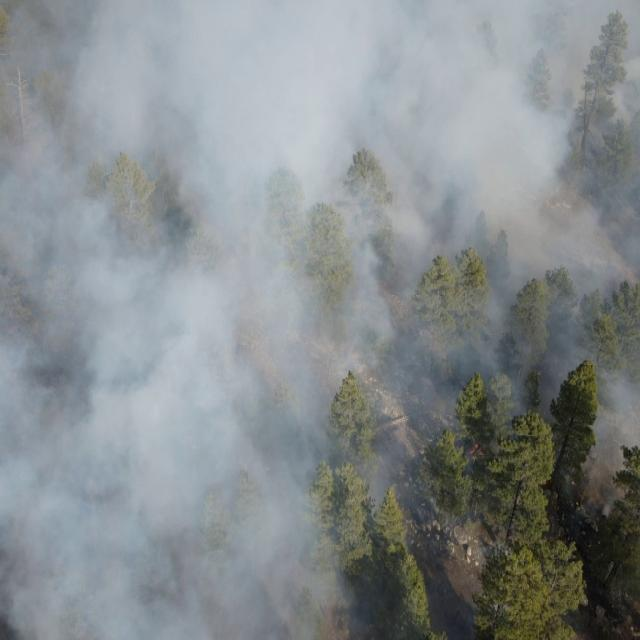fire: (462, 436, 486, 464)
smoke: (0, 0, 638, 435), (0, 435, 424, 640), (527, 432, 640, 498), (424, 525, 492, 633)
